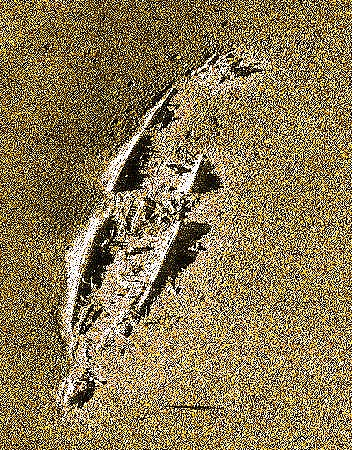ship: (54, 45, 255, 416)
